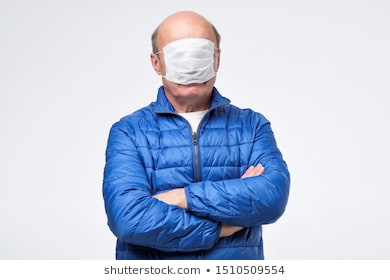mask_weared_incorrect: (157, 29, 222, 93)
